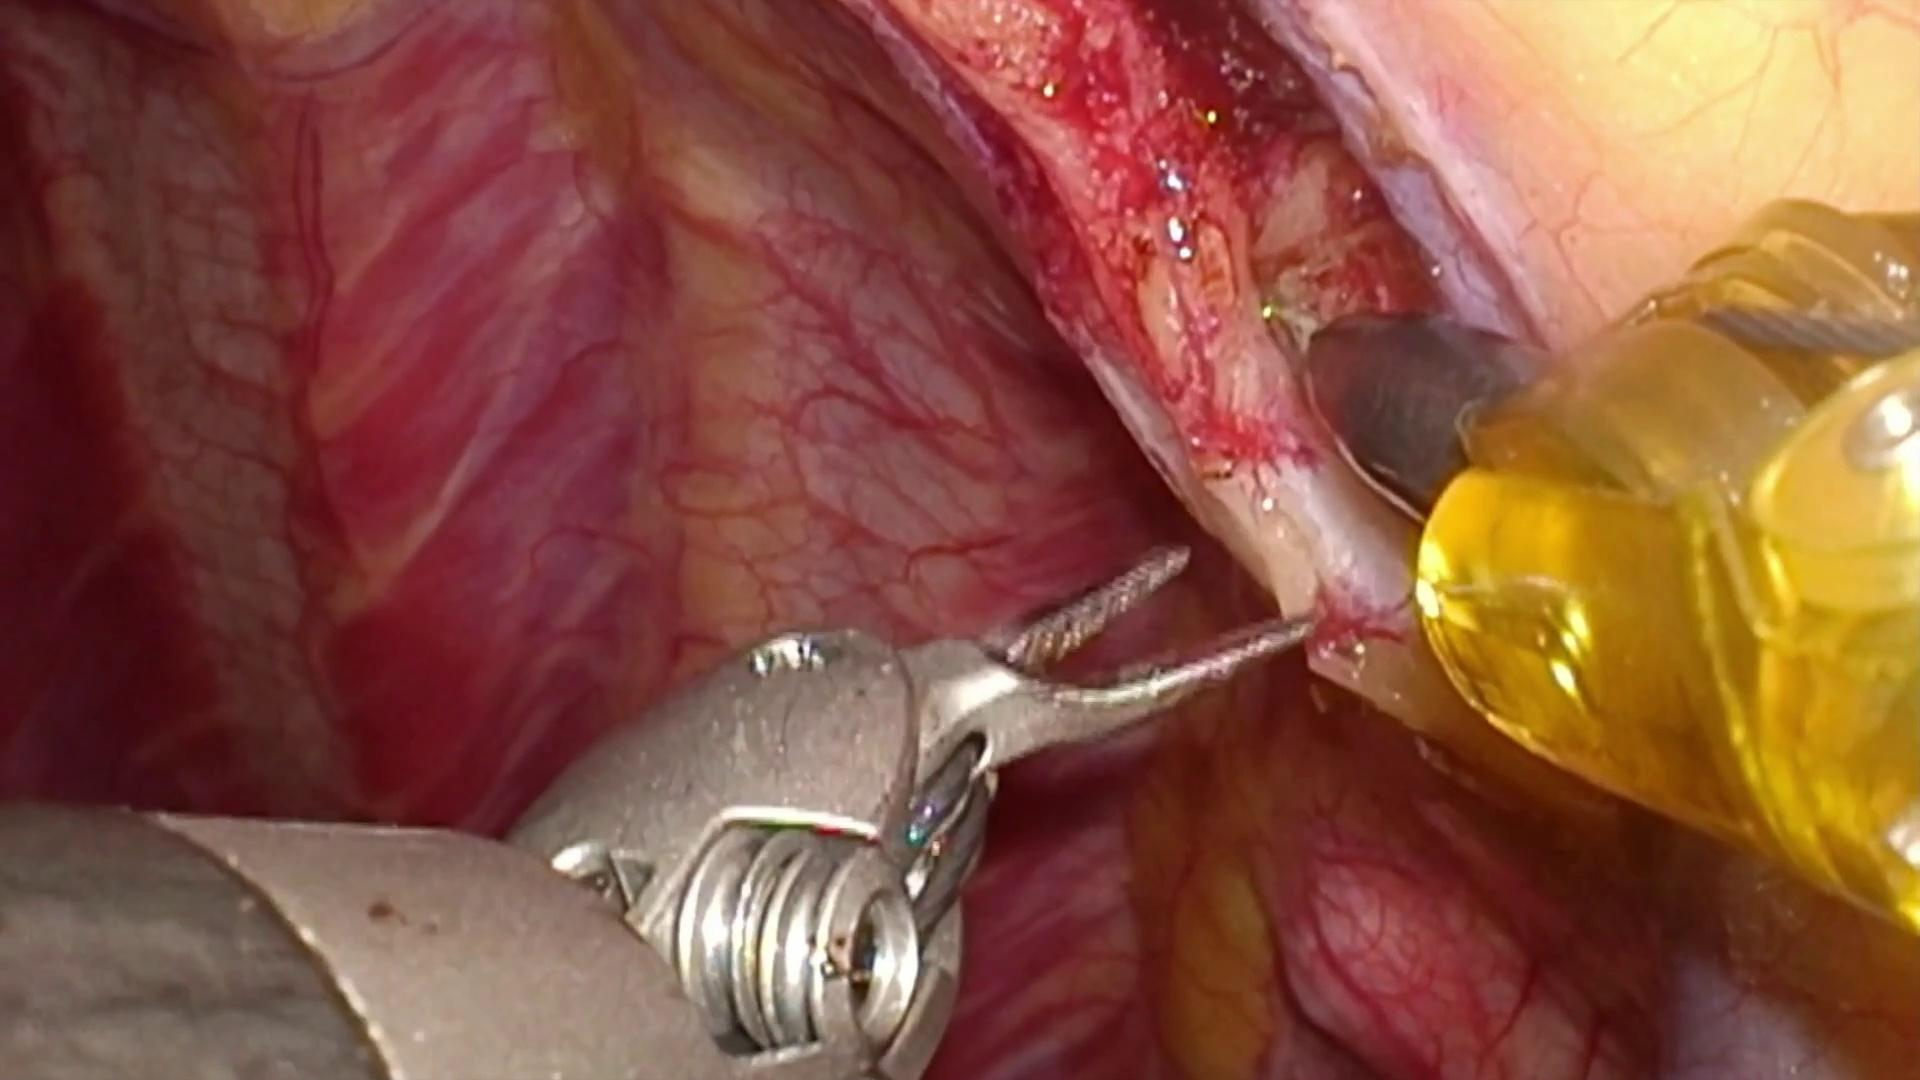Cautery_Spatula: (1262, 294, 1552, 521)
Debakey: (895, 492, 1319, 824)
